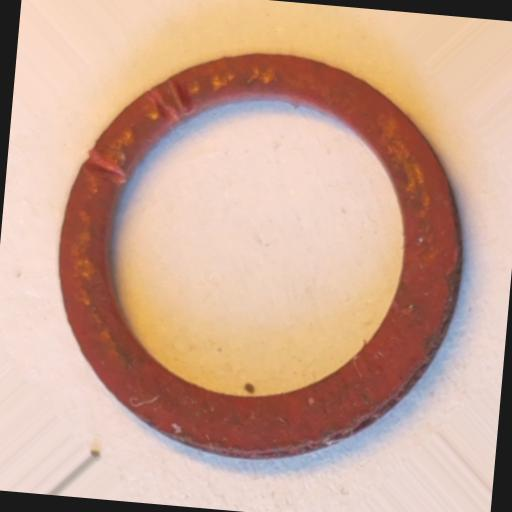defect: (82, 150, 128, 186), (146, 89, 178, 121), (168, 76, 196, 112)
